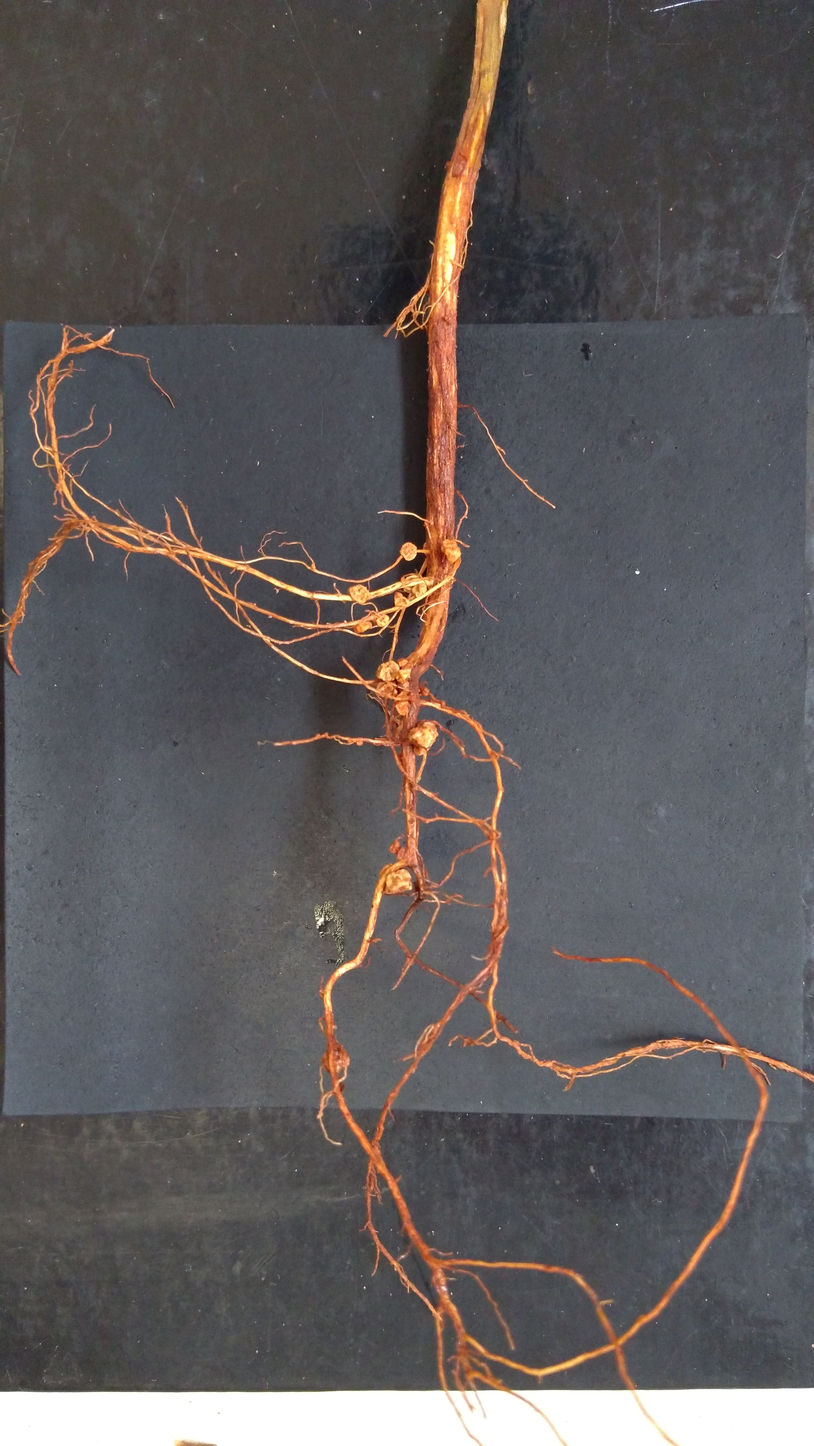nodule: (406, 717, 440, 752), (319, 1043, 350, 1073), (382, 868, 414, 895), (375, 659, 400, 682), (440, 538, 462, 564), (347, 583, 370, 606), (373, 680, 399, 700), (398, 540, 419, 562), (387, 840, 407, 860), (401, 574, 422, 593), (352, 619, 374, 635), (393, 699, 411, 718), (393, 590, 410, 610), (410, 581, 428, 599), (395, 668, 413, 684), (375, 612, 390, 628), (396, 656, 409, 668), (419, 686, 431, 699)
